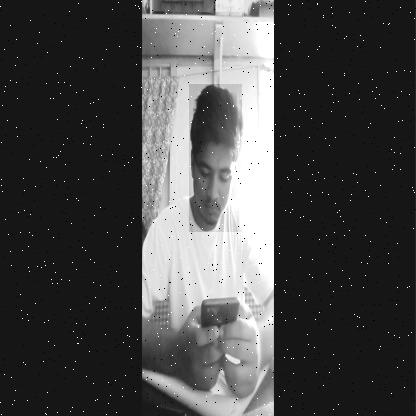Normal: (189, 84, 242, 232)
